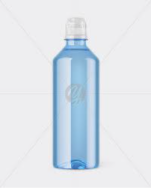Bottle: (52, 19, 99, 169)
